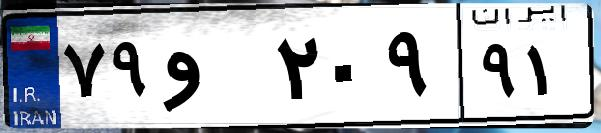0: (330, 28, 385, 110)
1: (525, 38, 570, 115)
2: (270, 28, 330, 110)
7: (57, 26, 110, 100)
9: (385, 28, 445, 110), (475, 38, 525, 113), (110, 28, 158, 98)
و: (158, 20, 270, 120)
